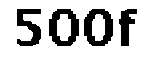0: (79, 8, 116, 47), (48, 7, 80, 48)
5: (13, 7, 44, 49)
f: (116, 9, 141, 48)
